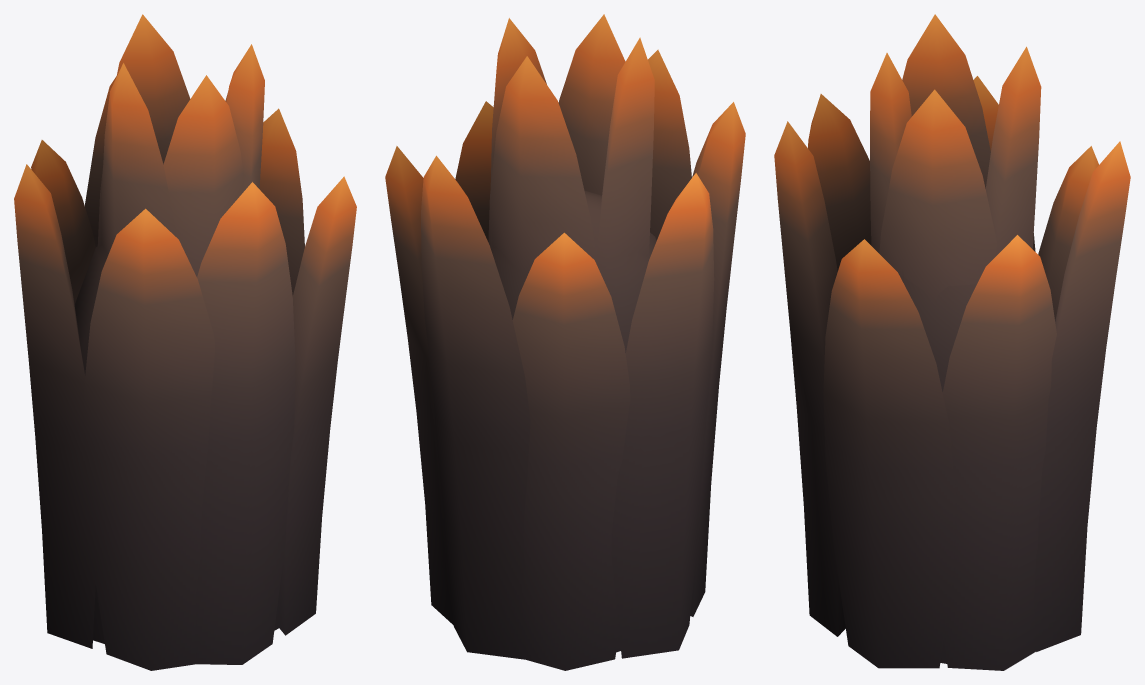
Rendered from ScorchGrassB.fbx.
3 views of the same model, side by side, from view 1: azimuth 30°, elevation 25°; view 2: azimuth 150°, elevation 25°; view 3: azimuth 270°, elevation 25° (orthographic). The views are drawn at different scales.
Parts seen in each view (by area): view 1: ScorchGrassB; view 2: ScorchGrassB; view 3: ScorchGrassB.
Part boxes in pixels (bbox=[...]): ScorchGrassB: bbox=[14, 14, 356, 670]; ScorchGrassB: bbox=[385, 14, 745, 670]; ScorchGrassB: bbox=[774, 14, 1130, 670].
Bounding box in the file's own units: 0.7987 × 1.49 × 0.8378.
Materials: 1 (1 with a texture image).
